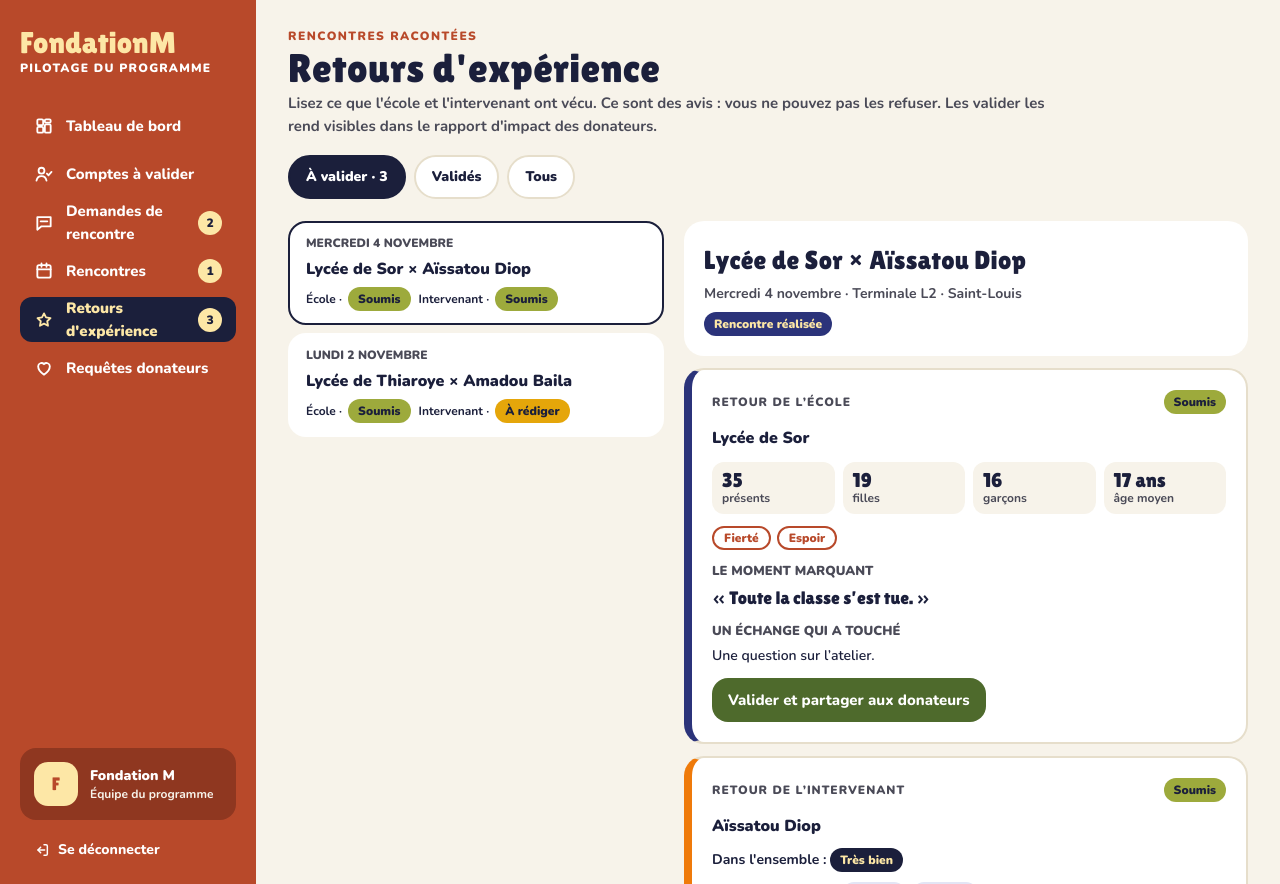
Test case: Retours d’expérience (Fondation, W3-retours) › demande confirmation avant de publier (focus sur « Annuler »), puis publie et garde la rencontre dans l’URL
Expected: the heading "Lycée de Sor × Aïssatou Diop" is shown, x1=704 y1=245 x2=1026 y2=275
Click the button named "Valider et partager aux donateursValider et partager" at (849, 700), box x1=712 y1=678 x2=986 y2=722
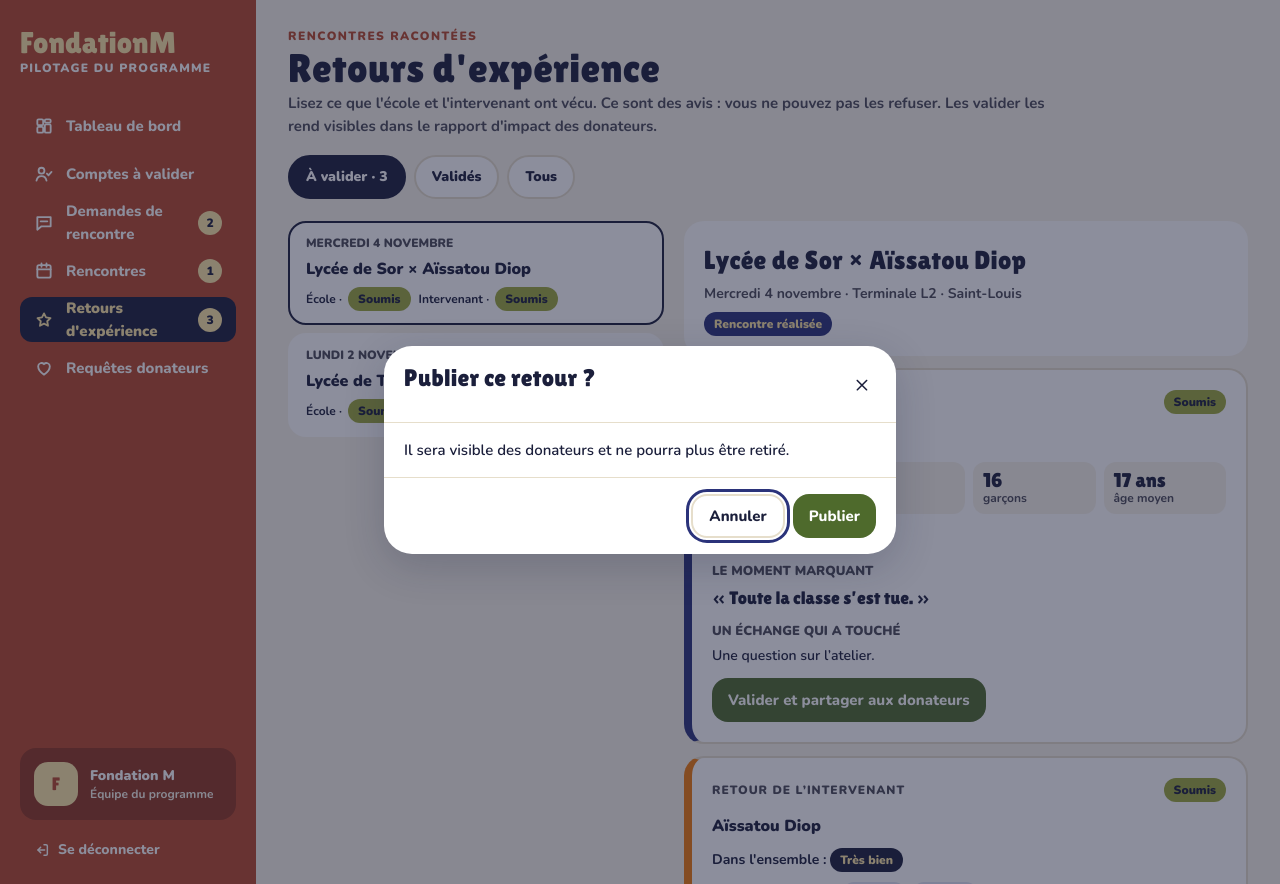
Expected: the dialog "Publier ce retour ?" shows "Il sera visible des donateurs et ne pourra plus être retiré.", x1=404 y1=440 x2=789 y2=460
Click the button "Annuler" at (738, 516), box x1=691 y1=494 x2=785 y2=538
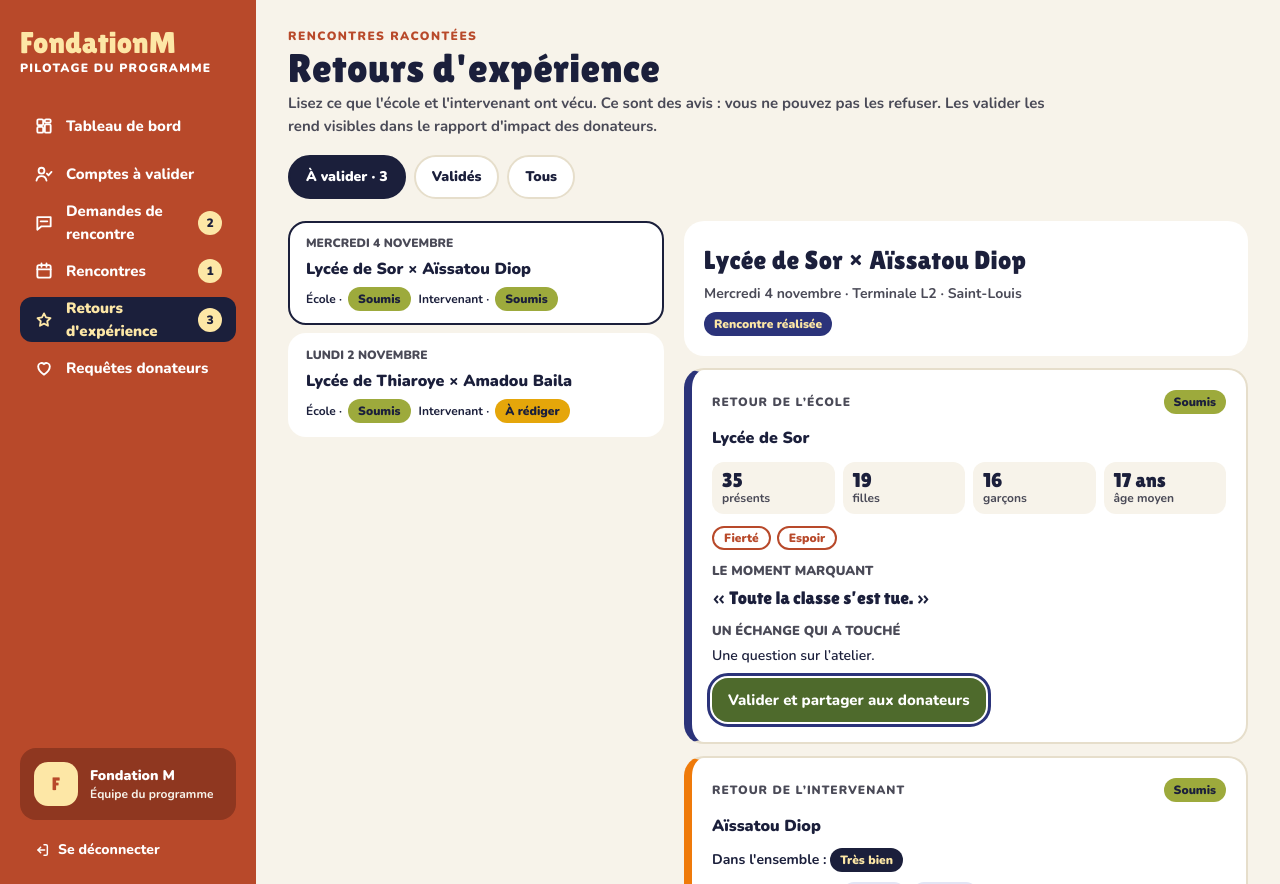
Expected: the dialog is gone
Click the button "Valider et partager aux donateurs" at (849, 700), box x1=712 y1=678 x2=986 y2=722
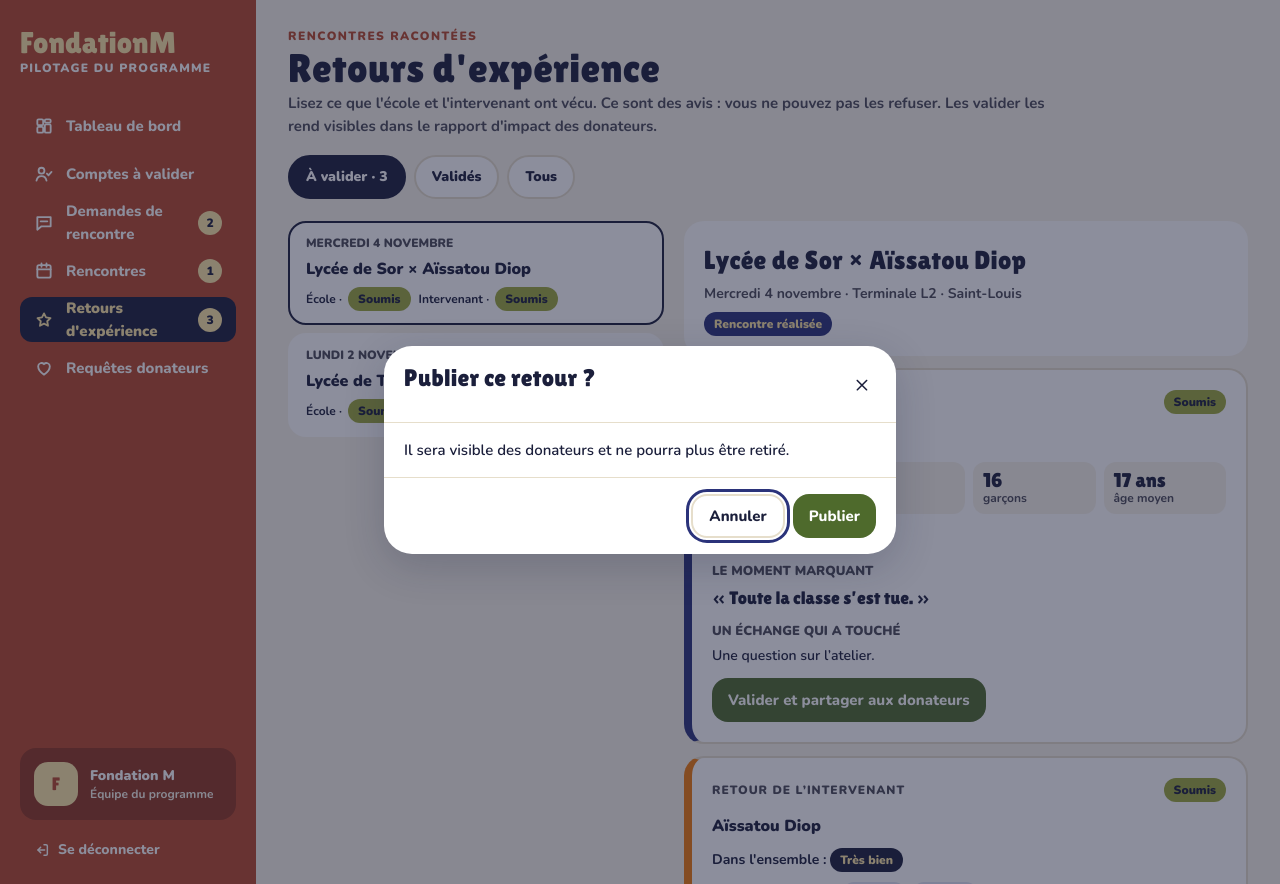
Click the button "Publier" at (834, 516), box x1=793 y1=494 x2=876 y2=538
(page scrolled)
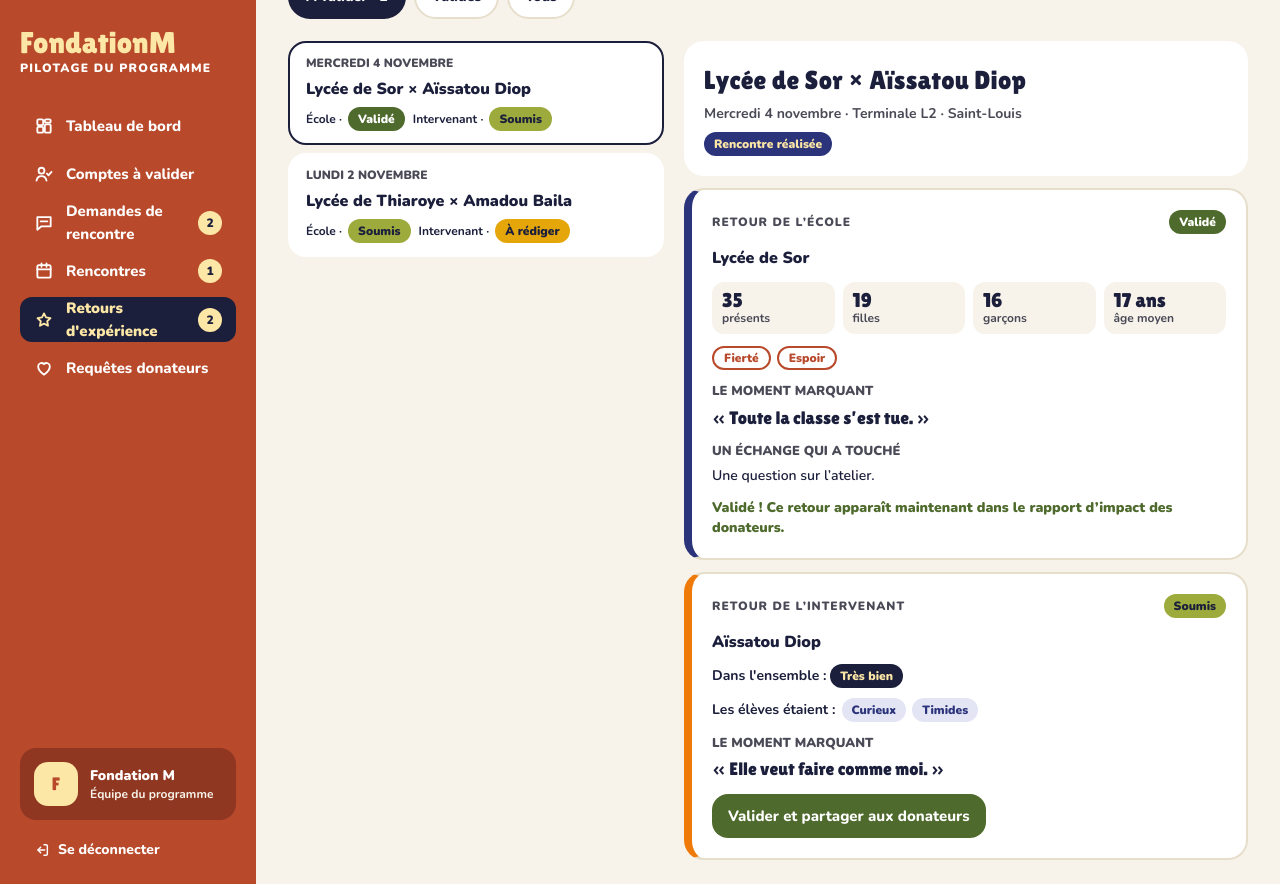
Expected: the text "Validé ! Ce retour apparaît maintenant dans le rapport d’impact des donateurs." is shown, x1=712 y1=498 x2=1226 y2=538
// Dernier retour de la rencontre publié : elle quitte « À valider » mais reste affichée (sélection dans l'URL).
Click the button "Valider et partager aux donateurs" at (849, 816), box x1=712 y1=794 x2=986 y2=838
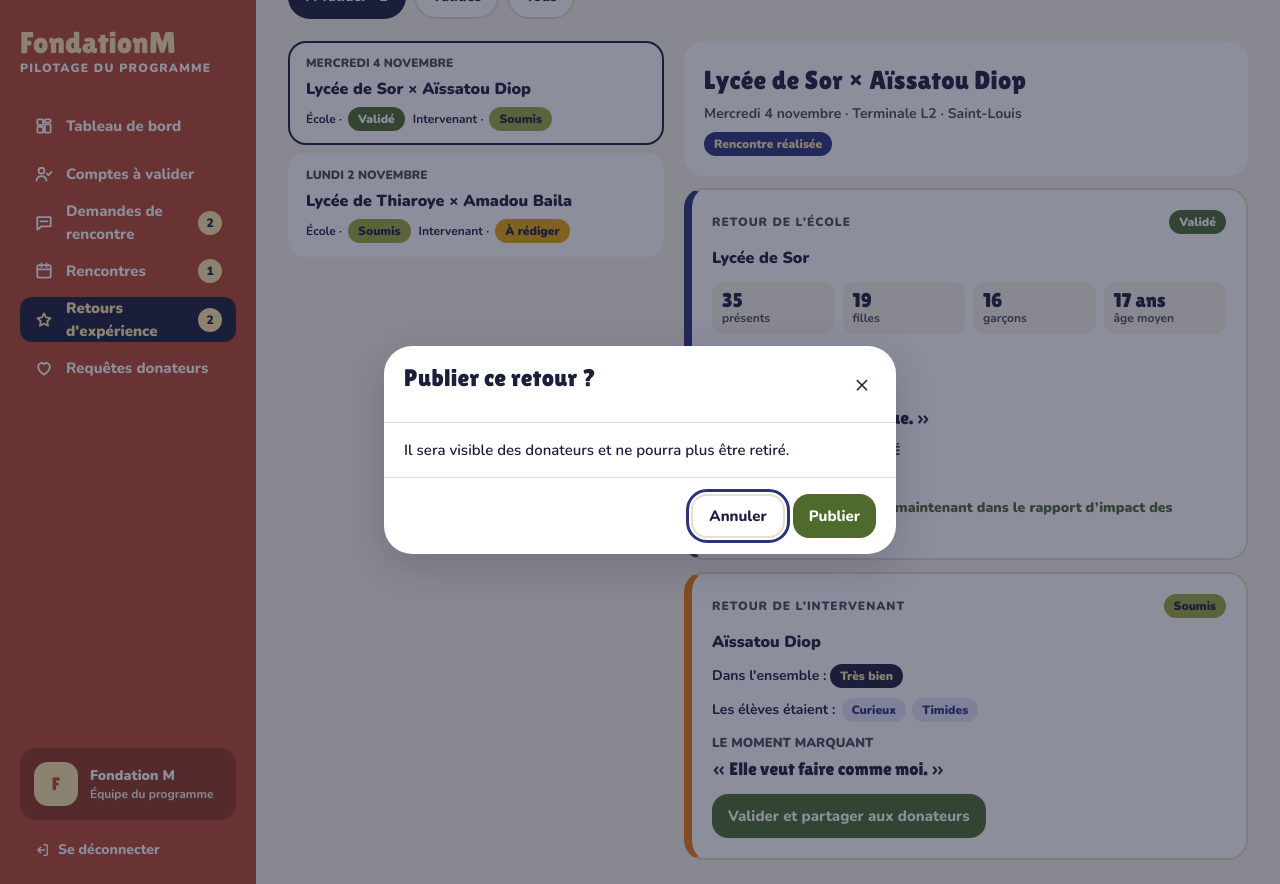
Click the button "Publier" at (834, 516), box x1=793 y1=494 x2=876 y2=538
(page scrolled)
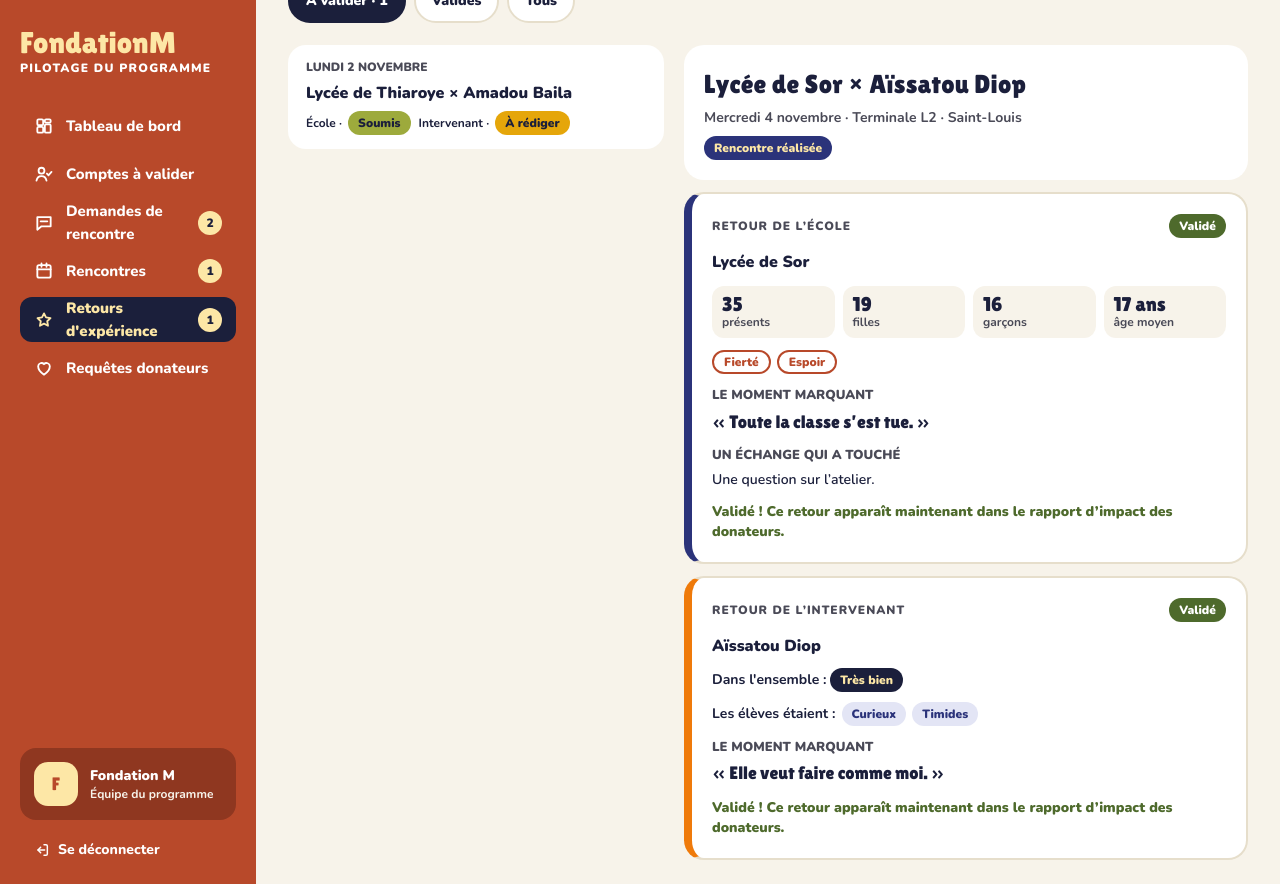
Expected: the heading "Lycée de Sor × Aïssatou Diop" is shown, x1=704 y1=69 x2=1026 y2=99
Expected: the text "Validé ! Ce retour apparaît maintenant" below "« Elle veut faire comme moi. »" is shown, x1=712 y1=798 x2=1173 y2=837
Expected: the button "Valider et partager" is gone
